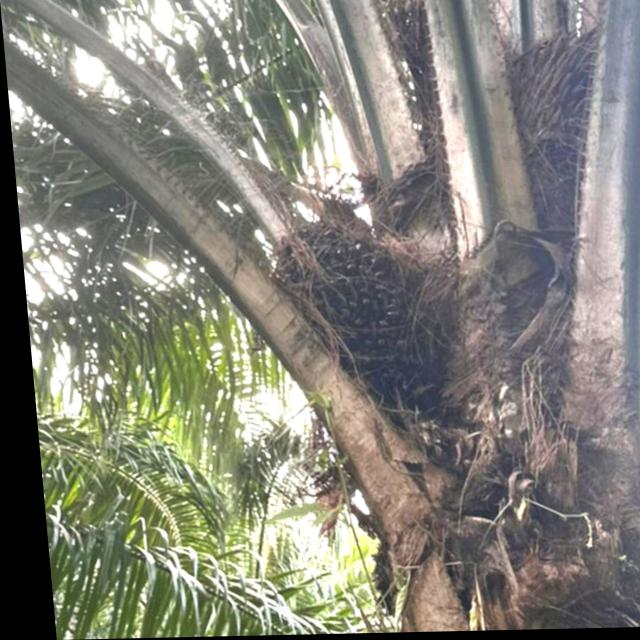unripe: (265, 230, 433, 403)
